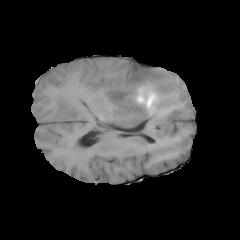glioma: (56, 68, 179, 126)
